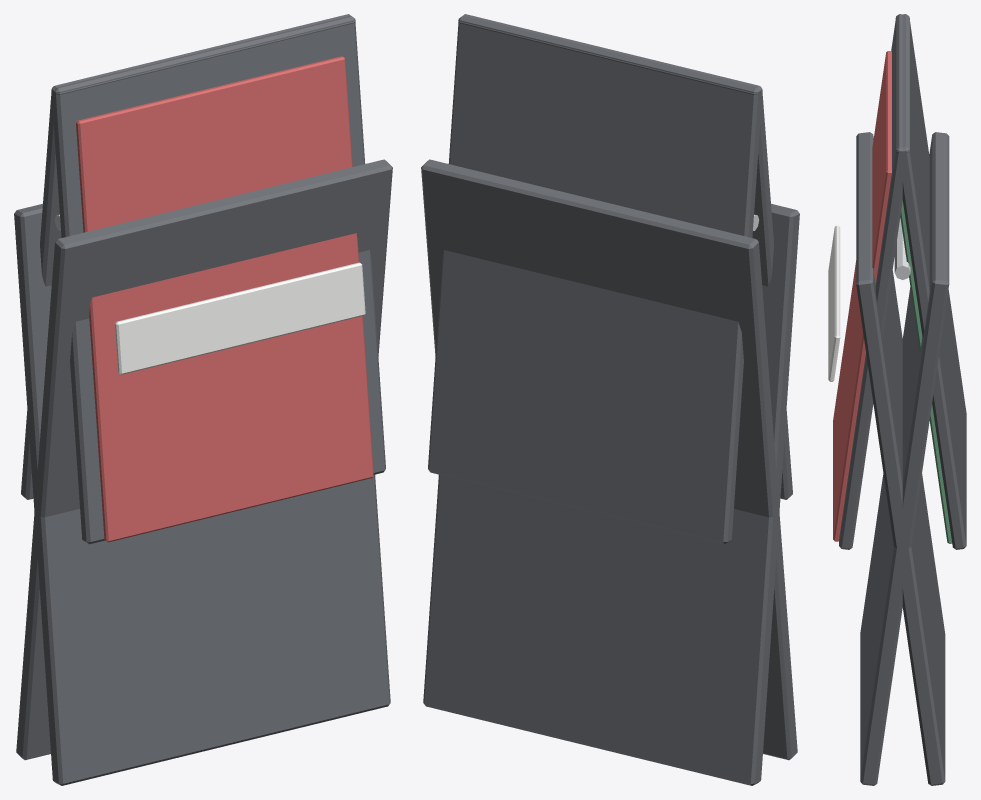
3 views of the same model, side by side, from view 1: azimuth 30°, elevation 25°; view 2: azimuth 150°, elevation 25°; view 3: azimuth 270°, elevation 25° (orthographic). The views are drawn at different scales.
Visible parts, largest first — view 1: sign-panel/frame, sign-panel/red, folding-sign-board, sign-panel/white; view 2: folding-sign-board, sign-panel/frame; view 3: folding-sign-board, sign-panel/frame, sign-panel/red, sign-panel/white.
Part boxes in pixels (x1=…): sign-panel/frame: x1=14, y1=15, x2=390, y2=785; sign-panel/red: x1=76, y1=56, x2=373, y2=542; folding-sign-board: x1=16, y1=14, x2=392, y2=760; sign-panel/white: x1=115, y1=262, x2=365, y2=374; folding-sign-board: x1=423, y1=15, x2=799, y2=785; sign-panel/frame: x1=421, y1=14, x2=797, y2=760; folding-sign-board: x1=856, y1=14, x2=966, y2=785; sign-panel/frame: x1=839, y1=14, x2=949, y2=785; sign-panel/red: x1=833, y1=51, x2=891, y2=541; sign-panel/white: x1=828, y1=225, x2=840, y2=381.
Size of the model in its own units: 0.6201 by 1.22 by 0.2408.
